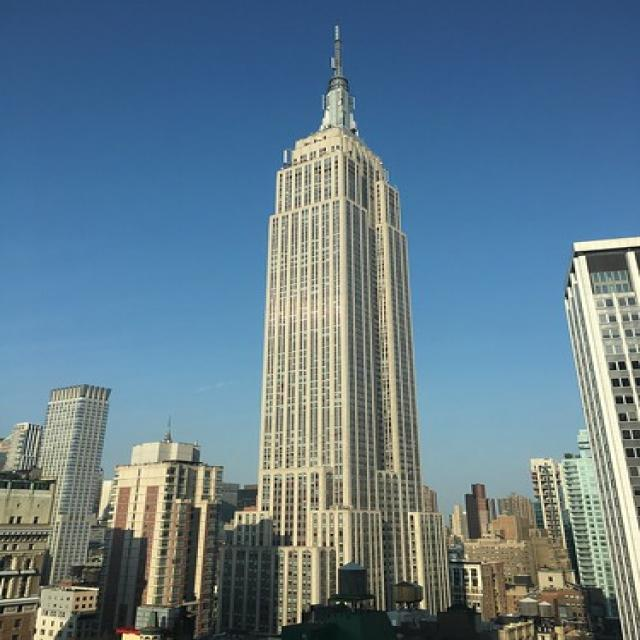Normal_building: (256, 53, 454, 638), (103, 430, 228, 640)
